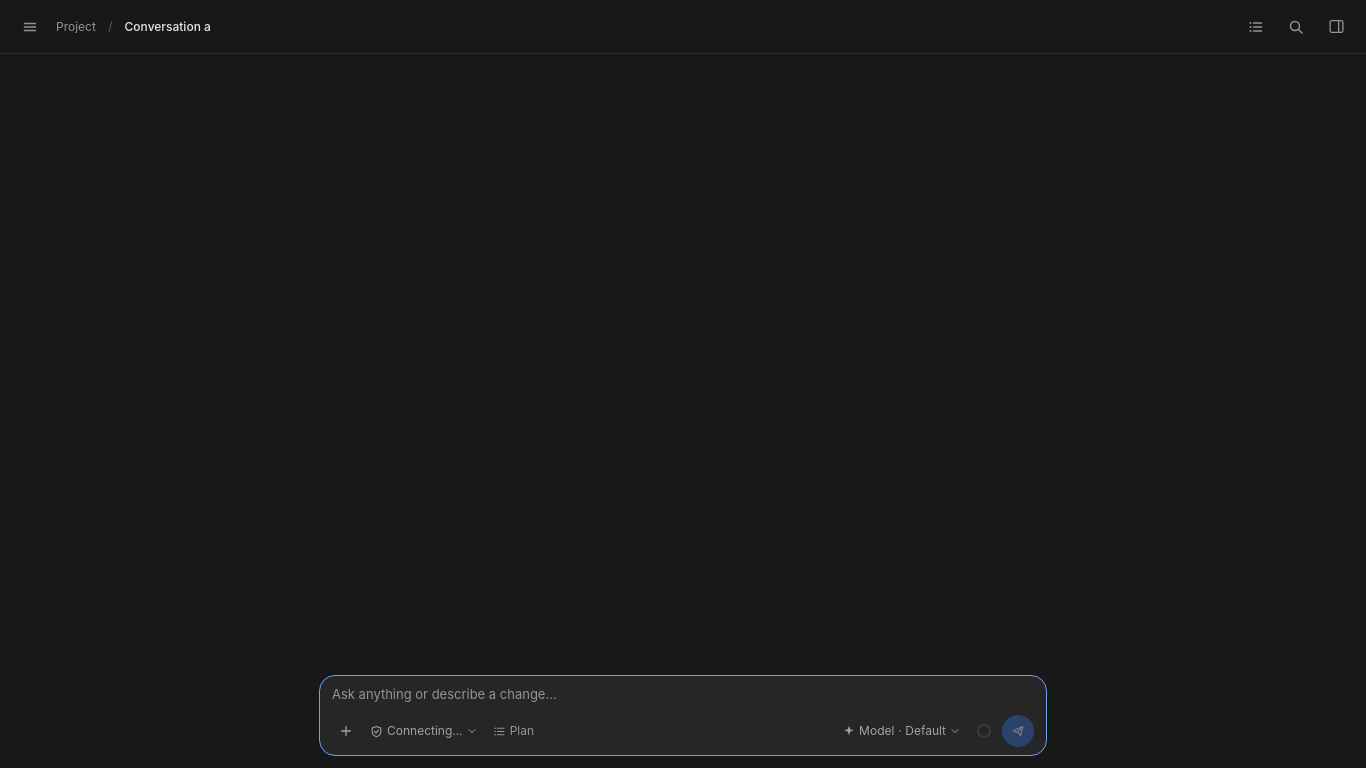
Test case: does not reload the current page or overflow on repeated native focus events
The width and height of the screenshot is (1366, 768).
What coordinates should you click on to do the following:
click the button named "Open workspace"
I would click on:
 (1336, 26)
Its box is [1322,12,1350,40].
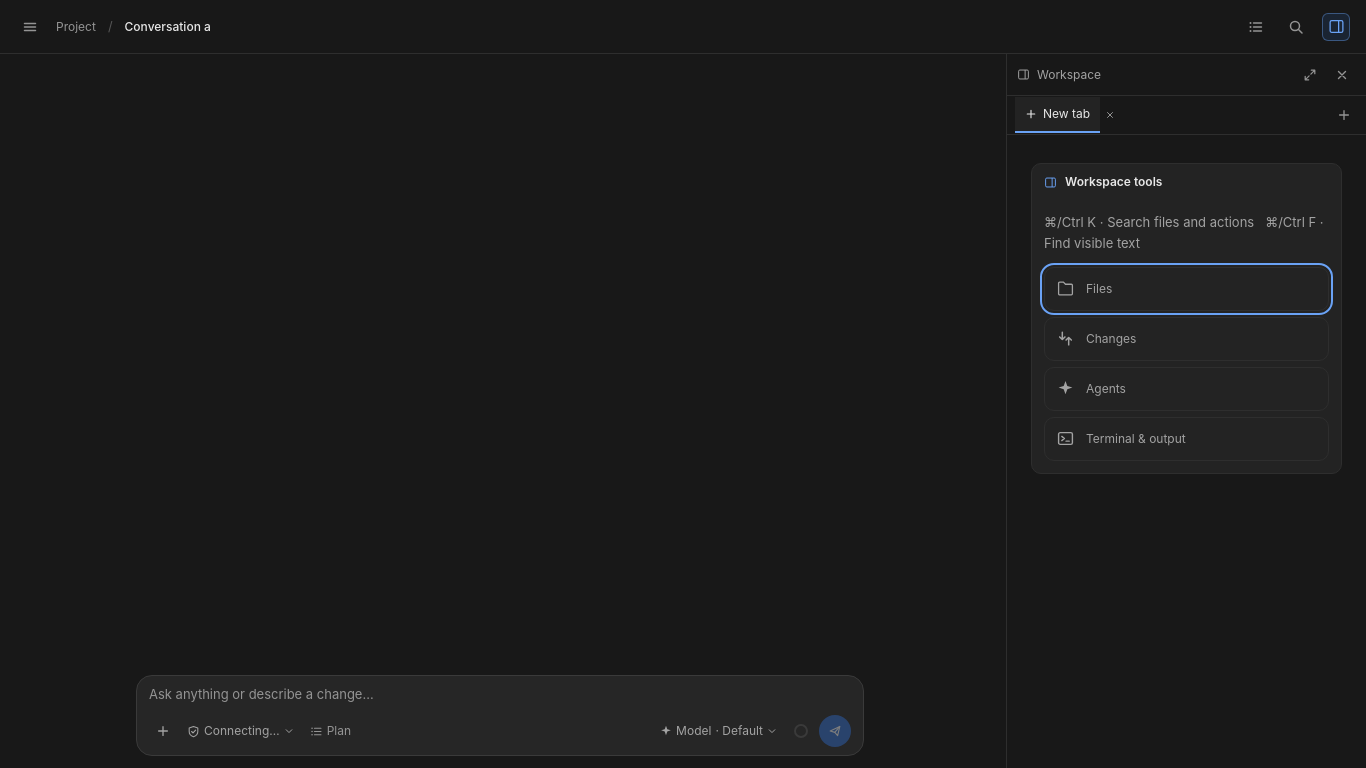
What coordinates should you click on to do the following:
click the button "Files"
I would click on:
 (1066, 289)
Its box is [1044,267,1329,311].
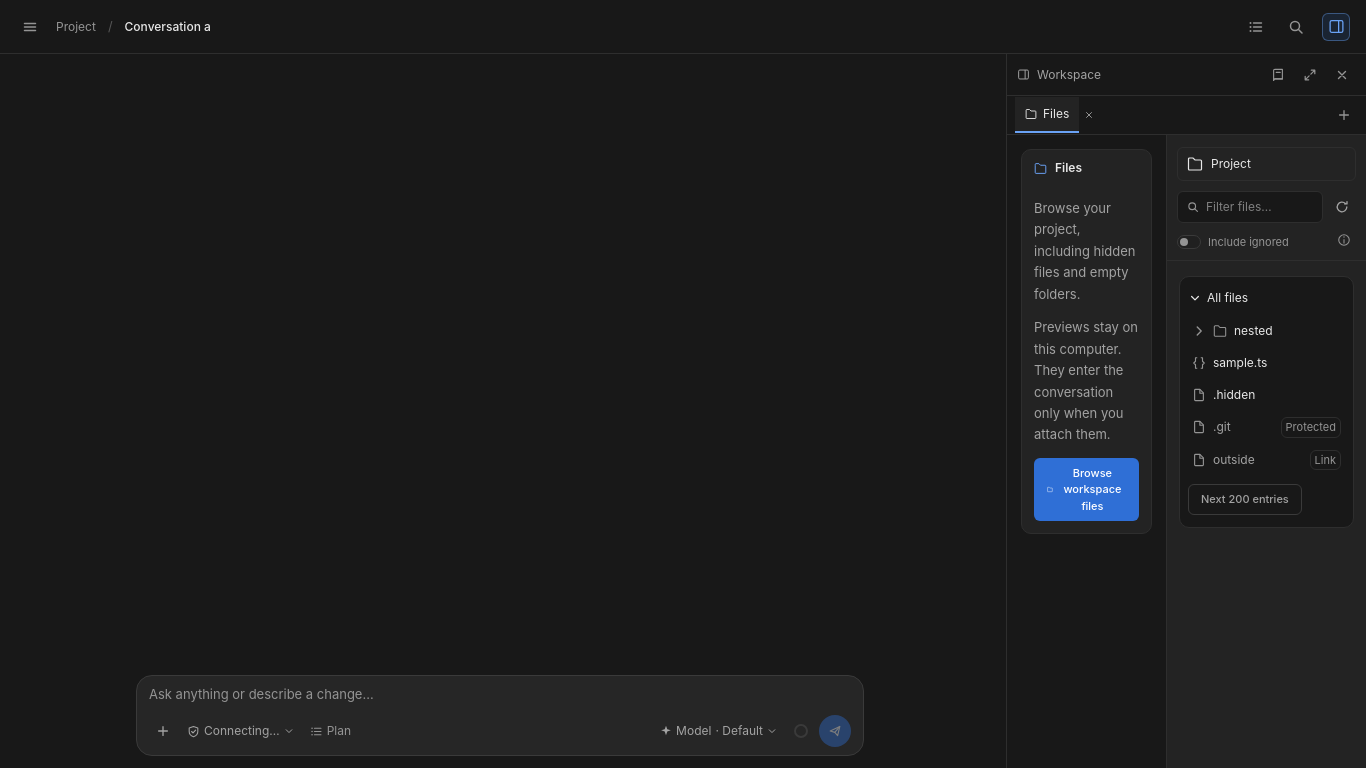
What coordinates should you click on to do the following:
click the button "Next 200 entries"
I would click on:
 (1245, 499)
Its box is [1188,484,1302,514].
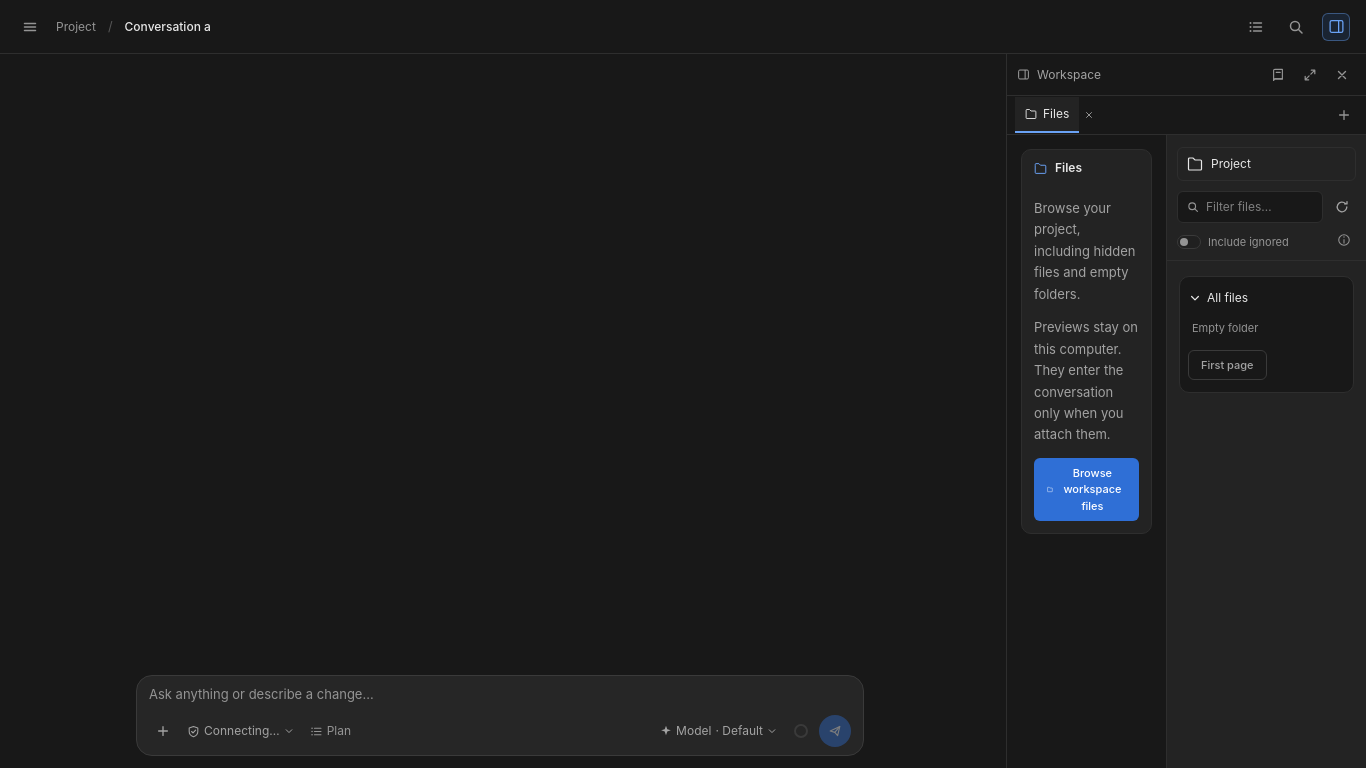
Expected: the button "First page" is shown, [1188,350,1266,380]
